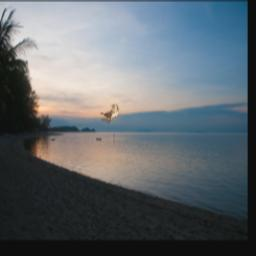Sparrow: (100, 105, 119, 124)
